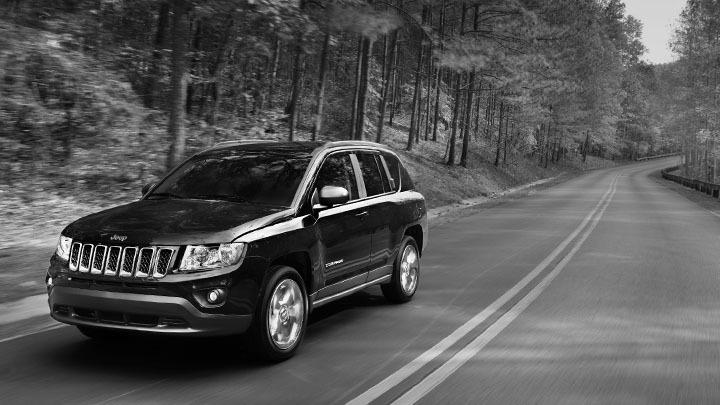car: (44, 139, 427, 362)
